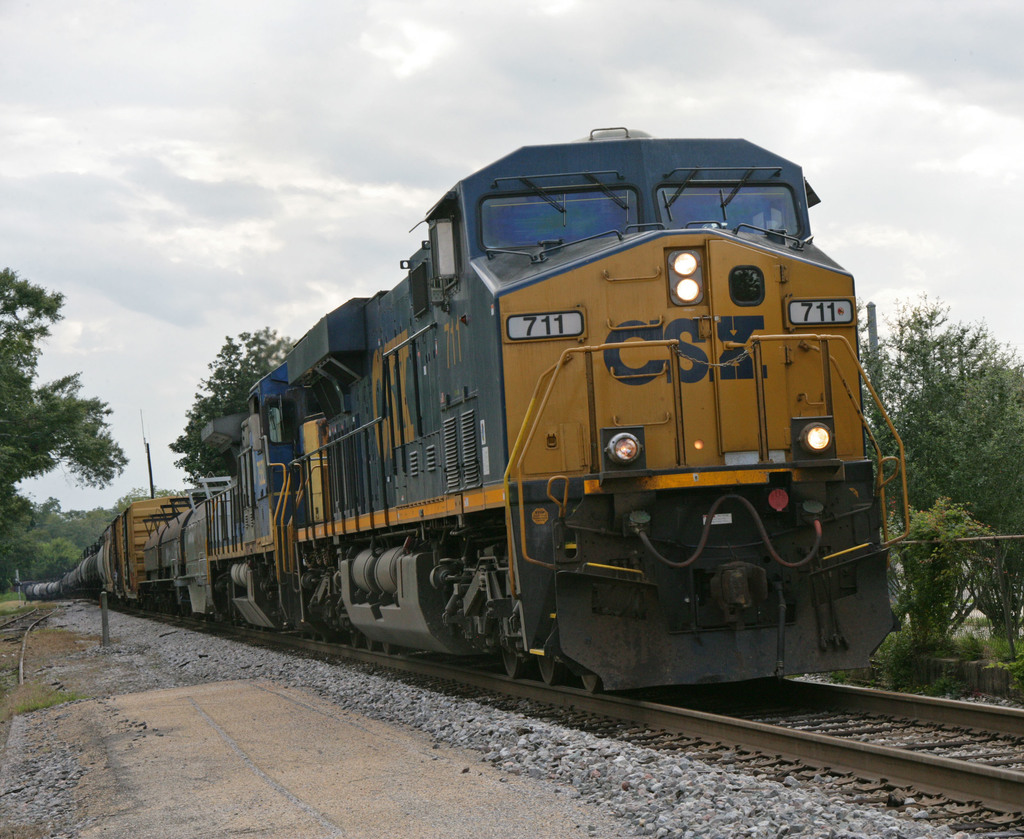train: (14, 119, 910, 694)
